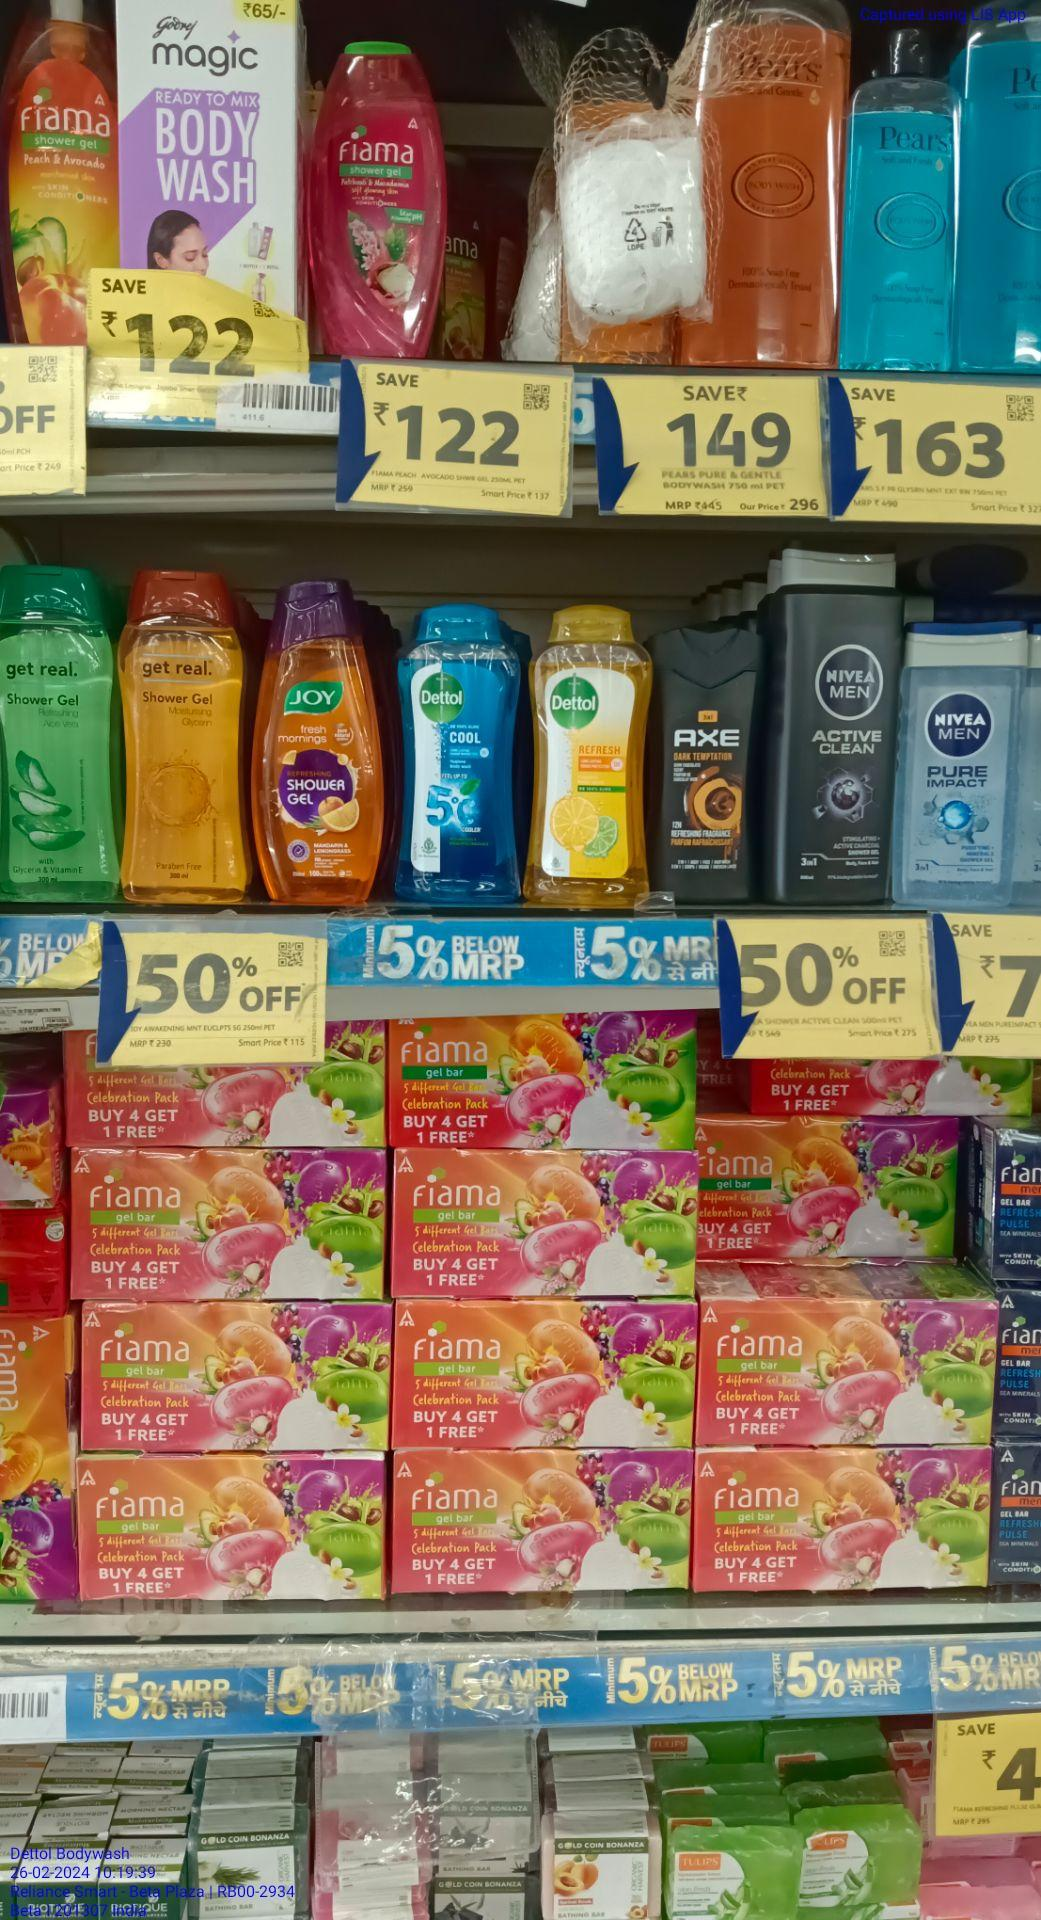Dettol_Bodywash_Cool: (399, 605, 522, 904)
Dettol_Bodywash_Refresh: (535, 600, 647, 909)
Fiama_Shower_Gel_Patchouli_and_Macadamia_250ML: (312, 24, 453, 361)
Get_Real_Shower_Gel_Moisturising_Glycerin_300ML: (126, 569, 249, 907)
Joy_Shower_Gel_Mandarin_and_Lemongrass_250ML: (267, 579, 376, 907)
